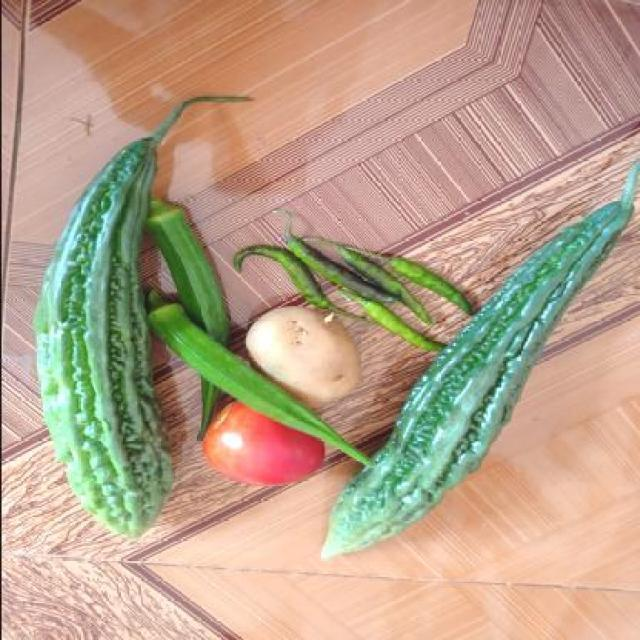Bitter melon: (30, 81, 166, 546), (322, 378, 509, 560)
Green Chili: (236, 237, 427, 317)
Lady finger: (146, 181, 219, 394)
Potato: (243, 306, 357, 399)
Tomato: (202, 398, 328, 484)
